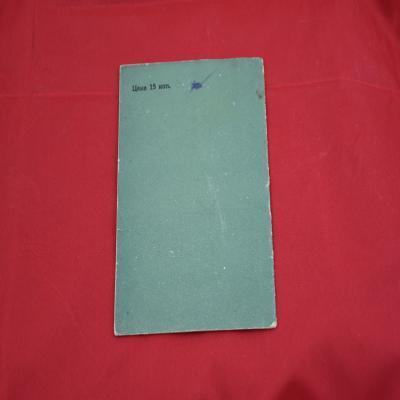rare_books: (112, 57, 278, 339)
